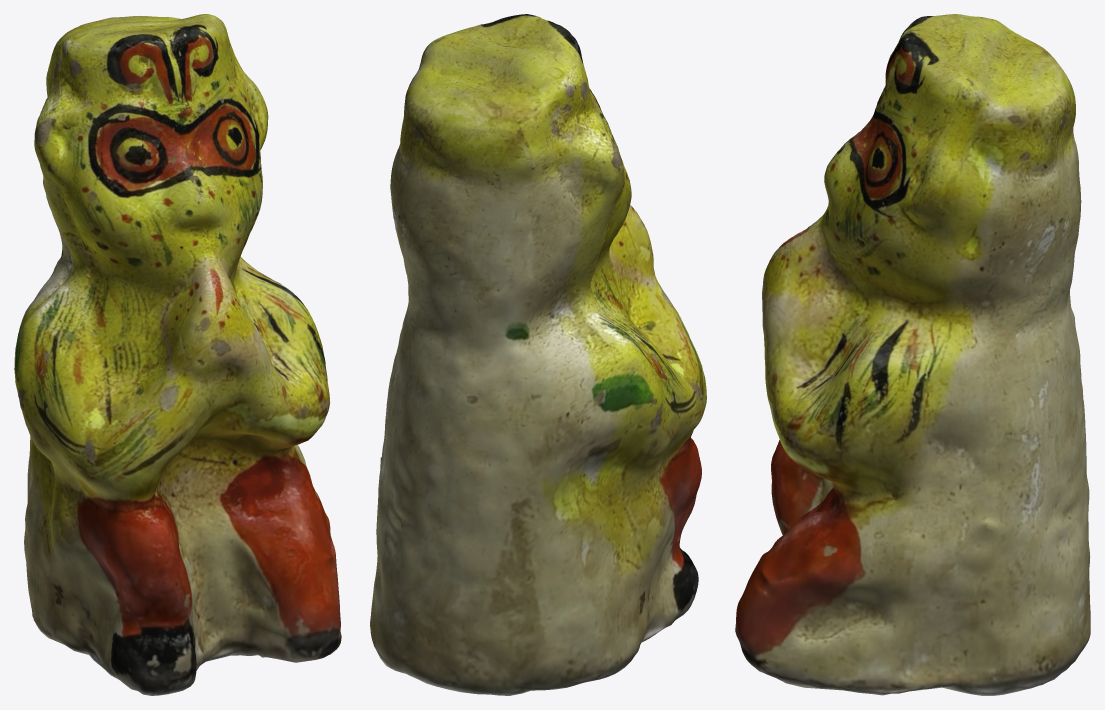
The picture shows the model from 3 angles, left to right: view 1: azimuth 30°, elevation 25°; view 2: azimuth 150°, elevation 25°; view 3: azimuth 270°, elevation 25°; orthographic projection. The views are drawn at different scales.
Size of the model in its own units: 0.2775 by 0.6136 by 0.3212.
Materials: 1 (1 with a texture image).
